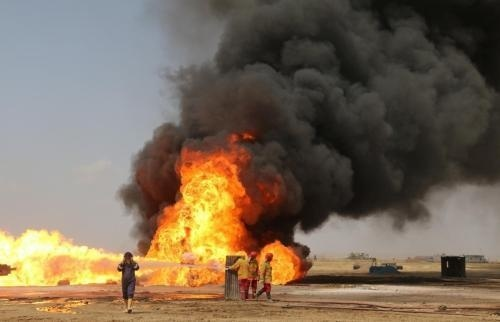fire: (133, 135, 304, 291), (0, 215, 125, 291)
